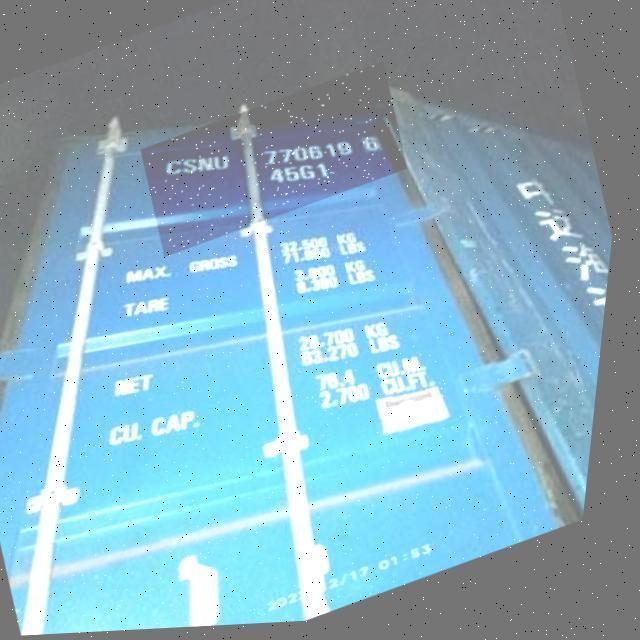ISO: (269, 159, 329, 190)
container_number: (160, 130, 384, 180)
